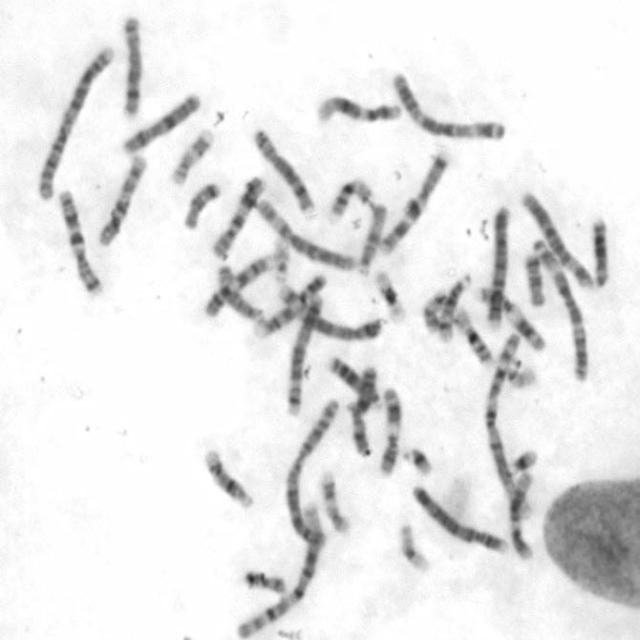A1: (230, 495, 328, 639), (480, 329, 534, 522)
A2: (32, 40, 116, 202), (281, 394, 342, 552)
A3: (387, 64, 509, 143), (528, 235, 590, 384)
B4: (408, 480, 508, 556), (482, 201, 513, 332)
B5: (274, 280, 384, 343), (281, 289, 327, 418)
C10: (95, 150, 149, 248), (210, 174, 267, 260)
C11: (474, 280, 548, 352), (374, 382, 403, 478)
C12: (312, 90, 403, 126), (506, 467, 537, 560)
C6: (517, 186, 594, 291), (251, 195, 357, 271)
C7: (375, 145, 451, 256), (54, 184, 104, 297)
C8: (249, 123, 317, 214), (117, 8, 145, 118)
C9: (248, 268, 328, 340), (201, 251, 276, 318)
D13: (324, 351, 384, 412), (588, 213, 612, 291)
D14: (199, 443, 255, 512), (434, 271, 474, 343)
D15: (211, 259, 266, 320), (353, 198, 389, 277)
E16: (449, 304, 496, 366), (323, 173, 375, 223)
E17: (167, 122, 215, 187), (315, 466, 352, 536)
E18: (180, 177, 222, 232), (520, 249, 547, 308)
F19: (370, 264, 408, 324), (394, 519, 432, 574)
F20: (240, 565, 288, 596), (420, 290, 448, 335)
G21: (397, 442, 435, 478), (507, 443, 539, 473)
G22: (500, 357, 540, 390), (270, 233, 292, 286)
X: (118, 88, 202, 155), (346, 360, 378, 457)
